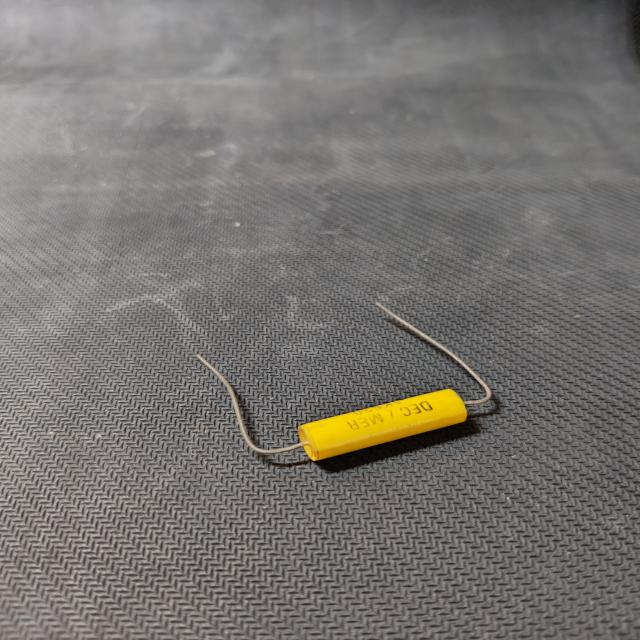capacitor: (181, 297, 525, 472)
